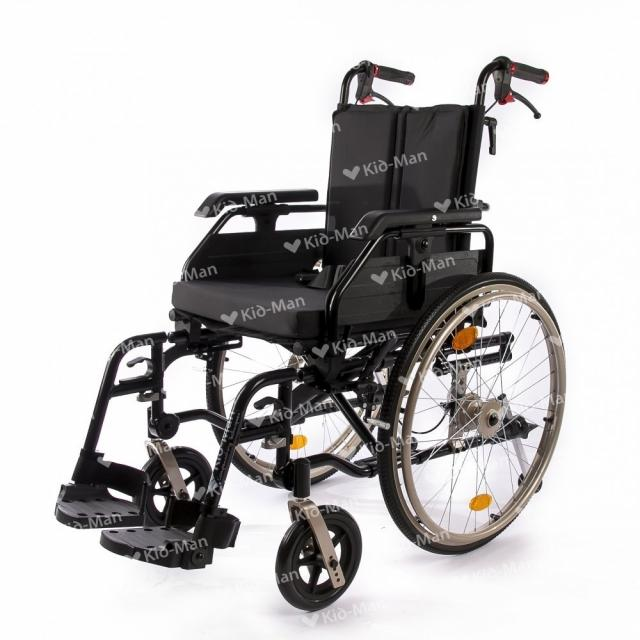wheelchair: (33, 45, 600, 637)
